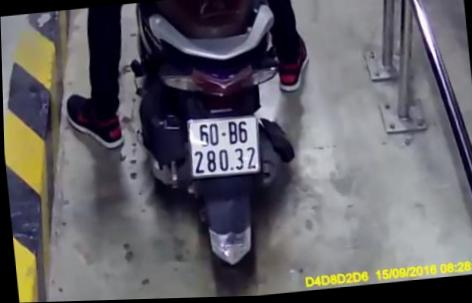LP: (185, 112, 261, 179)
